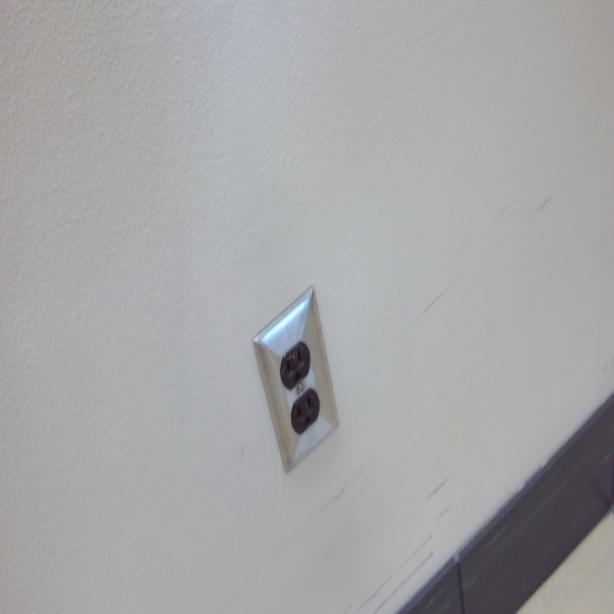typeb: (282, 346, 307, 381), (292, 397, 315, 430)
